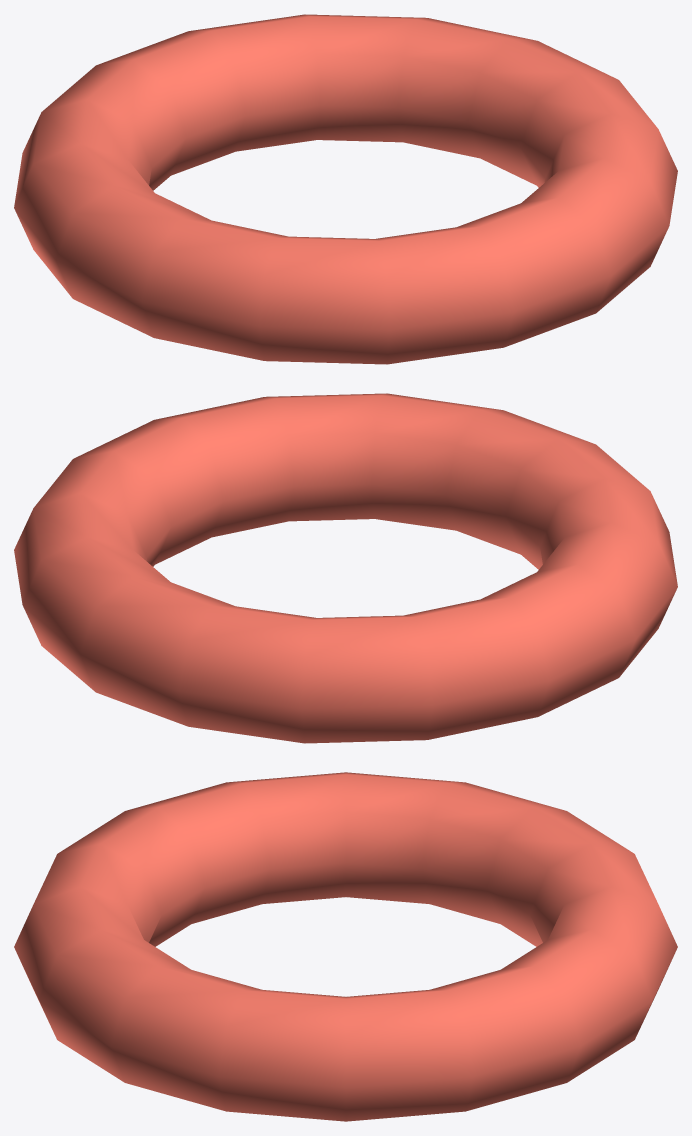
The picture shows the model from 3 angles, top to bottom: view 1: azimuth 30°, elevation 25°; view 2: azimuth 150°, elevation 25°; view 3: azimuth 270°, elevation 25°; orthographic projection.
Visible parts, largest first — view 1: Torus.001; view 2: Torus.001; view 3: Torus.001.
Part boxes in pixels (bbox=[...]): Torus.001: bbox=[14, 14, 677, 364]; Torus.001: bbox=[14, 393, 677, 743]; Torus.001: bbox=[14, 772, 677, 1121].
Size of the model in its own units: 2.5 by 0.5 by 2.5.
